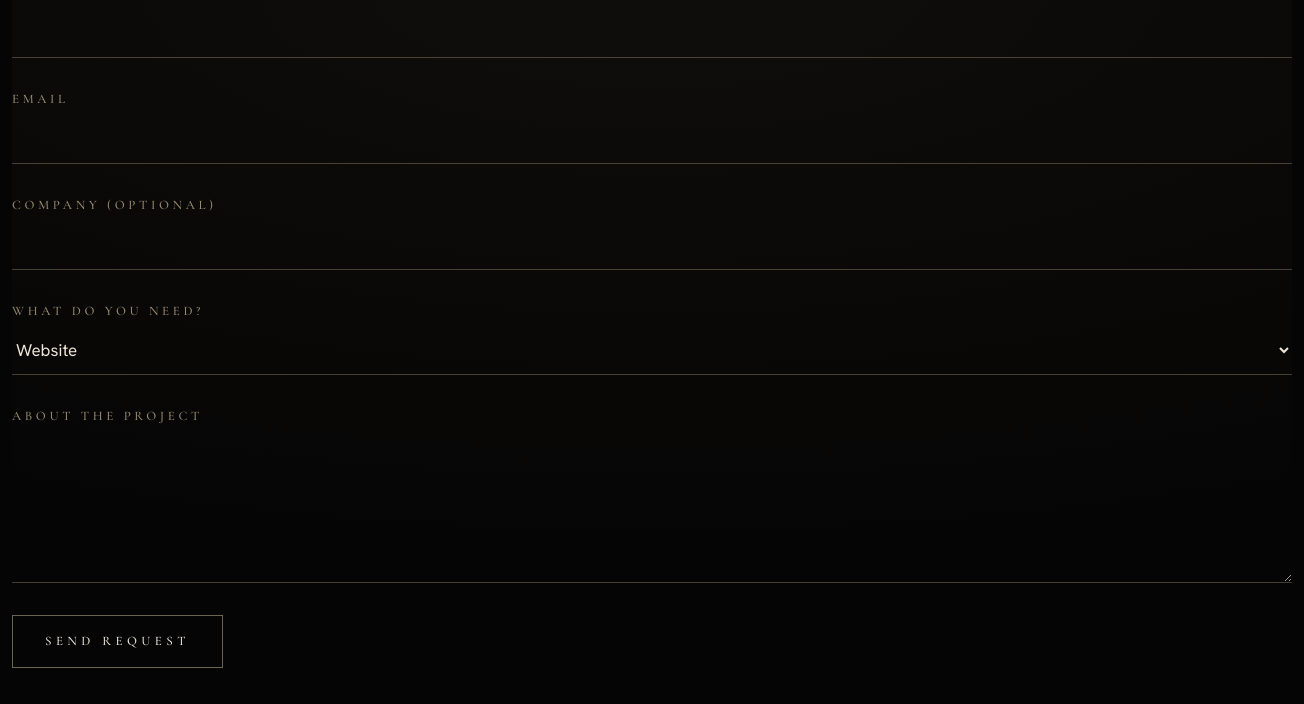
Test: <ConsultForm /> › falls back to the email address, as text, when sending fails
Type "Ada" into the field labelled "Your name" at coordinates (652, 33), box [12, 8, 1292, 58]
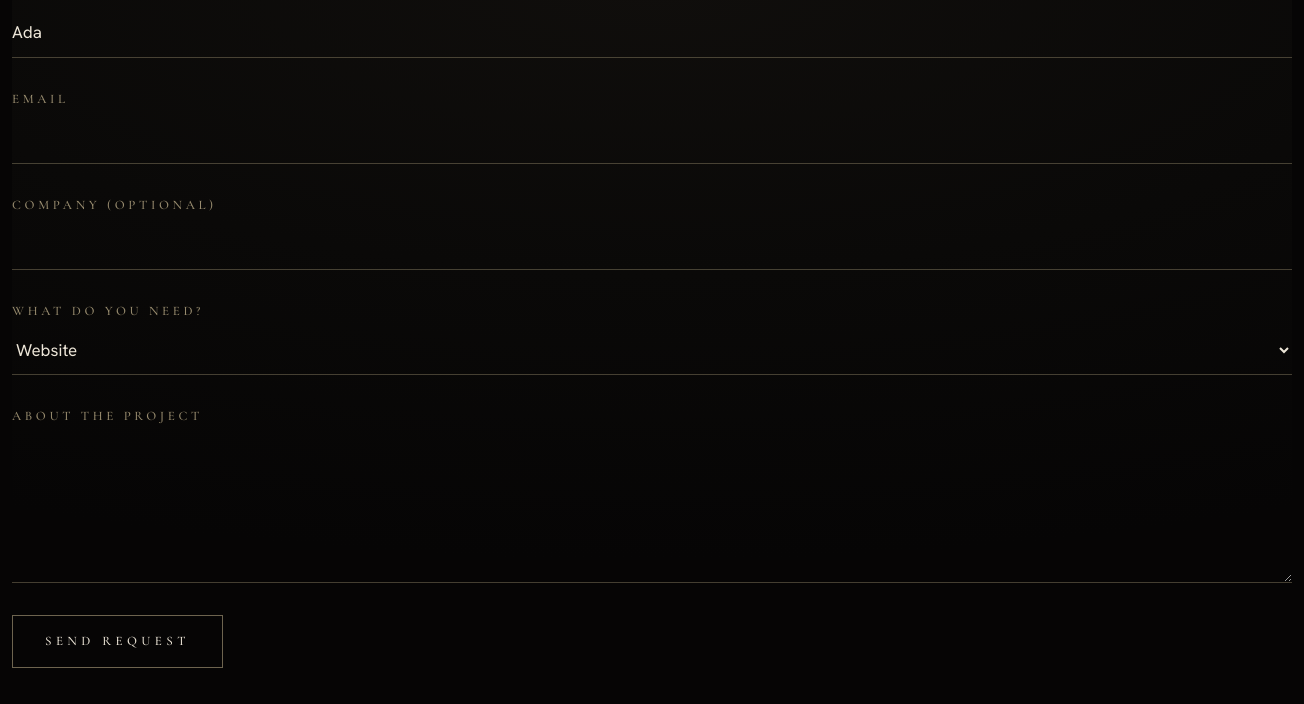
Type "ada@example.com" into the field labelled "Email" at coordinates (652, 139), box [12, 114, 1292, 164]
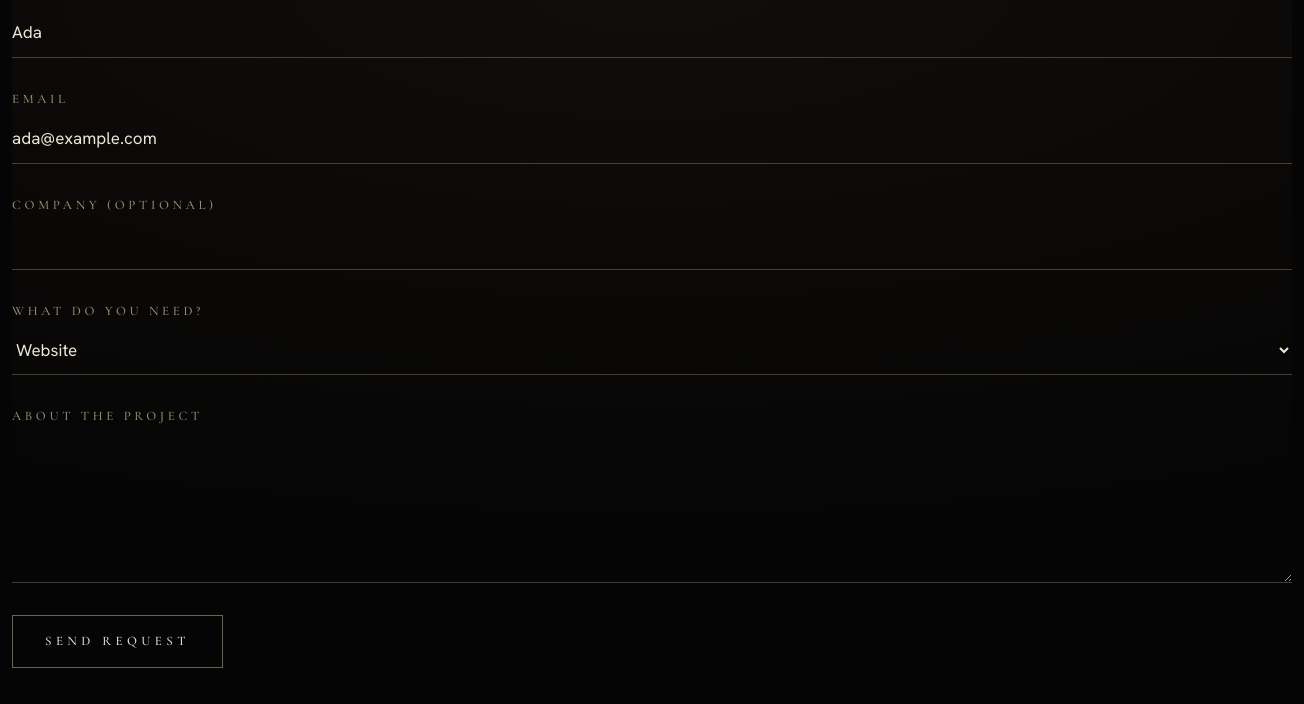
Type "A new site" into the text box labelled "About the project" at coordinates (652, 506), box [12, 430, 1292, 582]
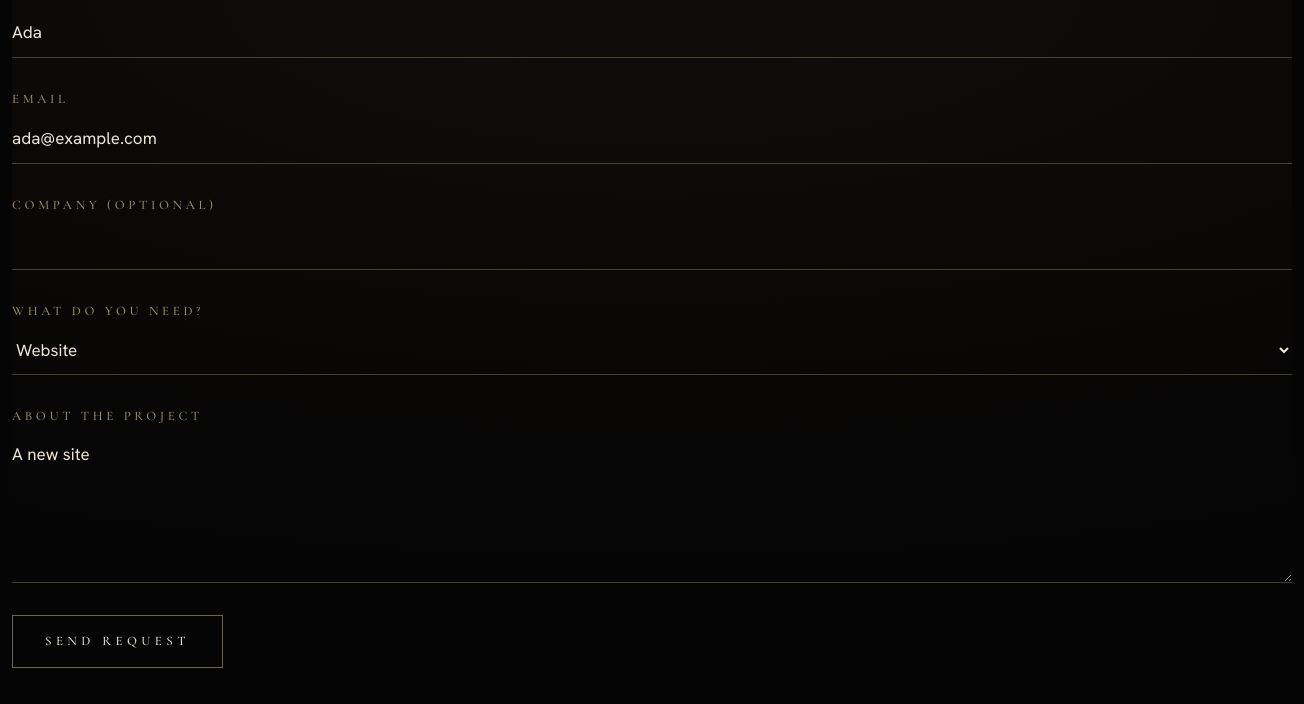
Click the button "Send request" at coordinates (117, 641), box [12, 614, 223, 668]
(page scrolled)
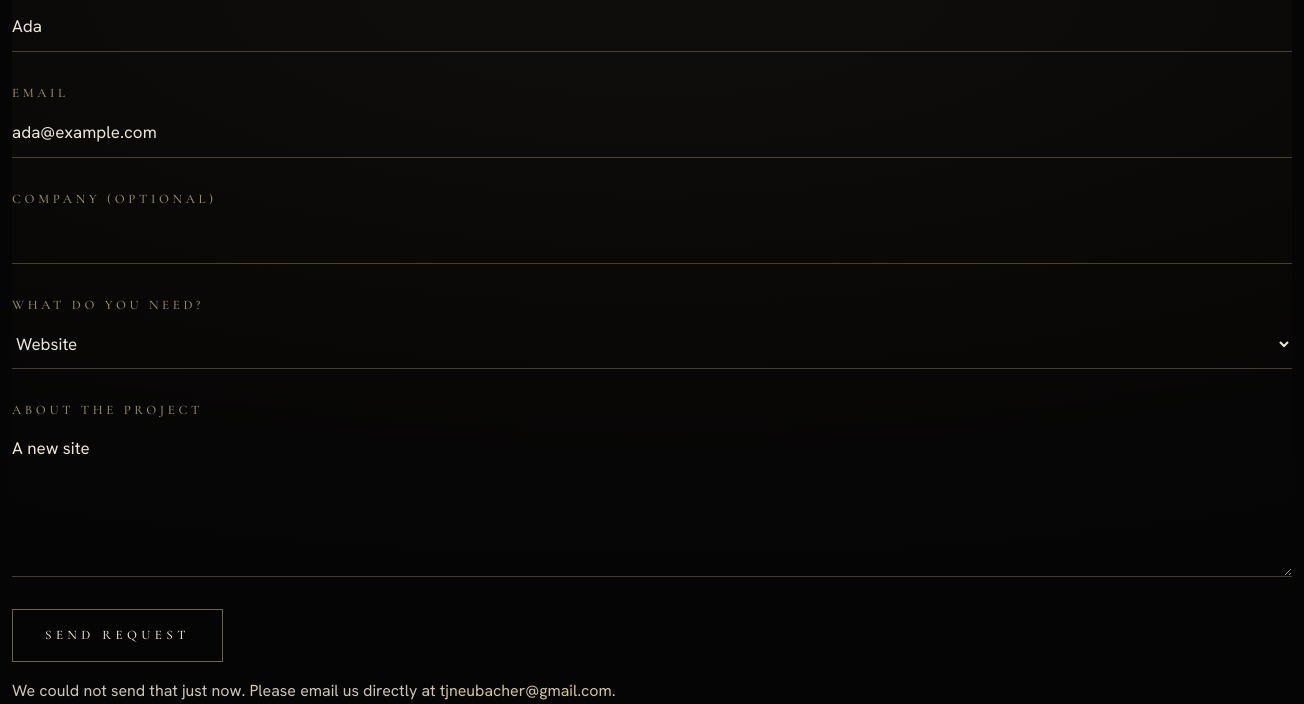
Check: the message shows "tjneubacher@gmail.com", box [440, 680, 612, 701]
